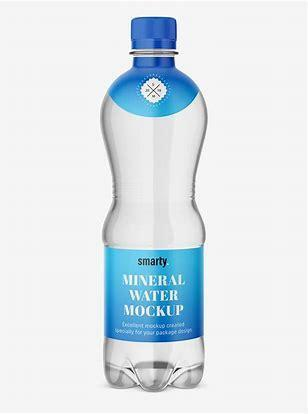plastic_bottle: (92, 13, 220, 399)
